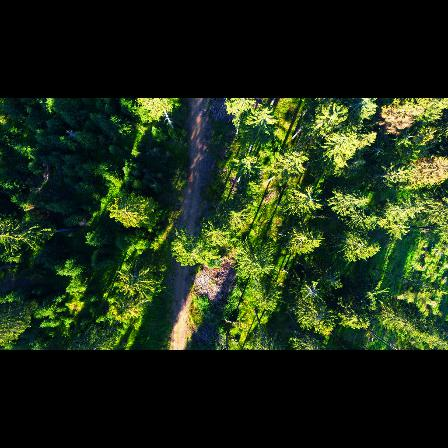Sick: (299, 281, 326, 304)
